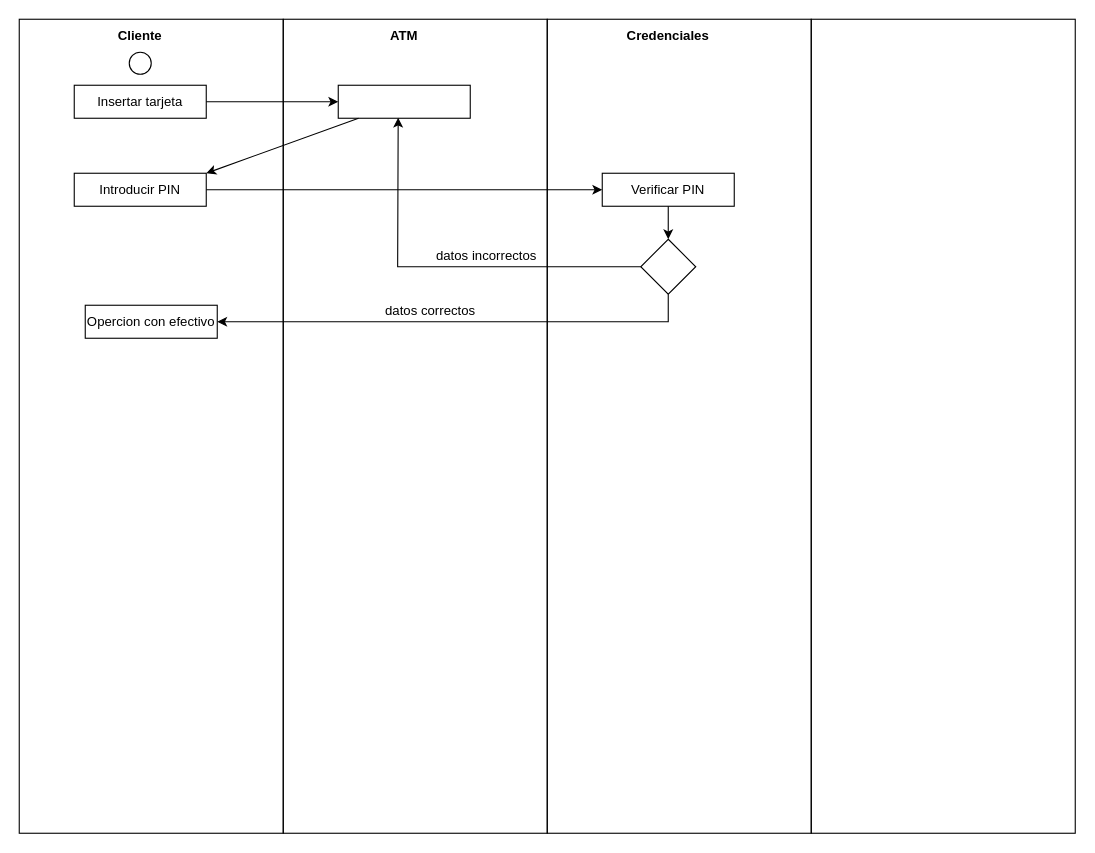
Some shapes in this 1095 by 853 pixel diagram are drawn without their labels. The shapes that lost their labels are listed below. From the top down, each one's box as (x1, y1, x2, y2) in pixels, then its label:
(337, 84, 470, 118): Solicitar PIN
(810, 18, 1075, 833): Sistmea bancaria
